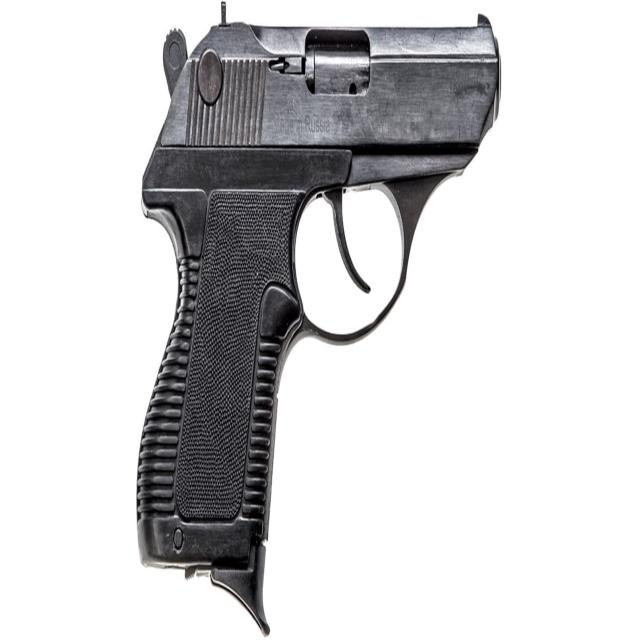pistol: (136, 3, 502, 636)
